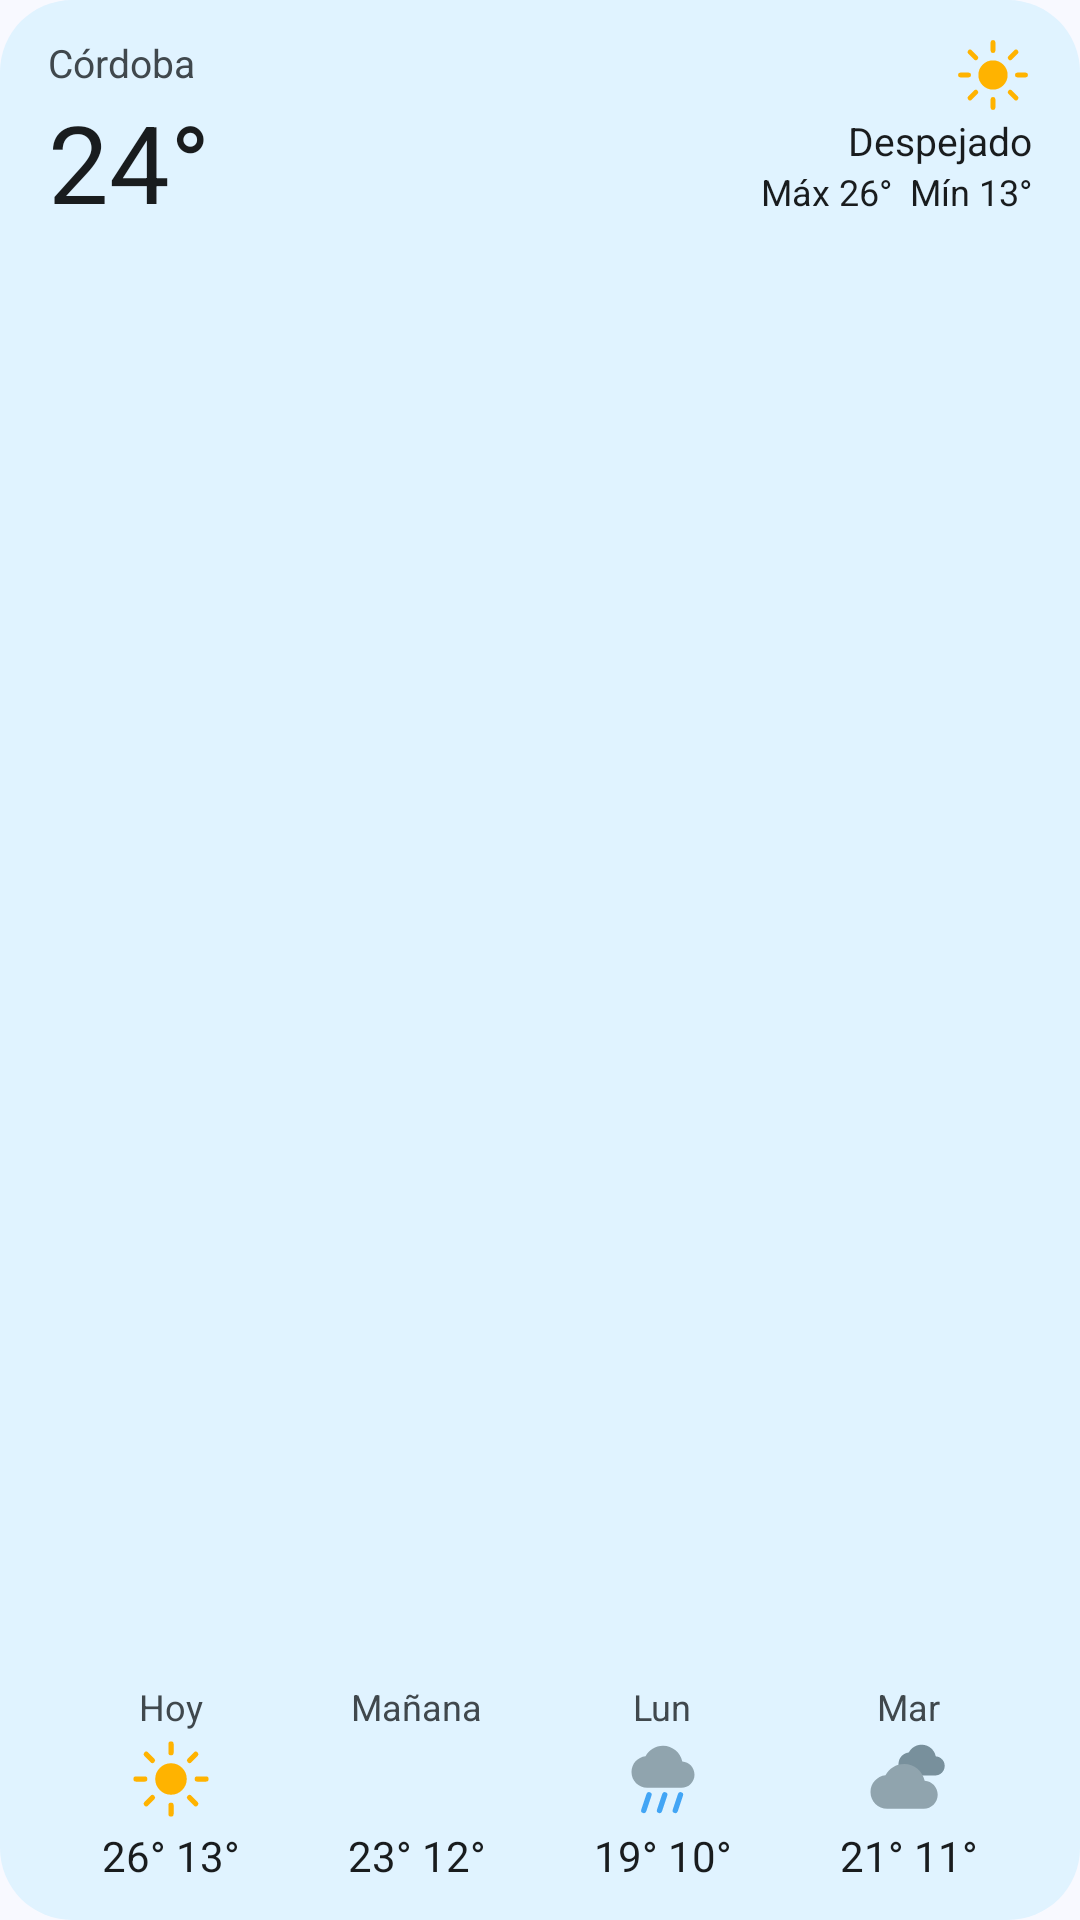

Point at icon controls on the screen. Image size 1080*1920, points as [x,y].
weather cloudy: [907,1776]
weather rain: [663,1780]
